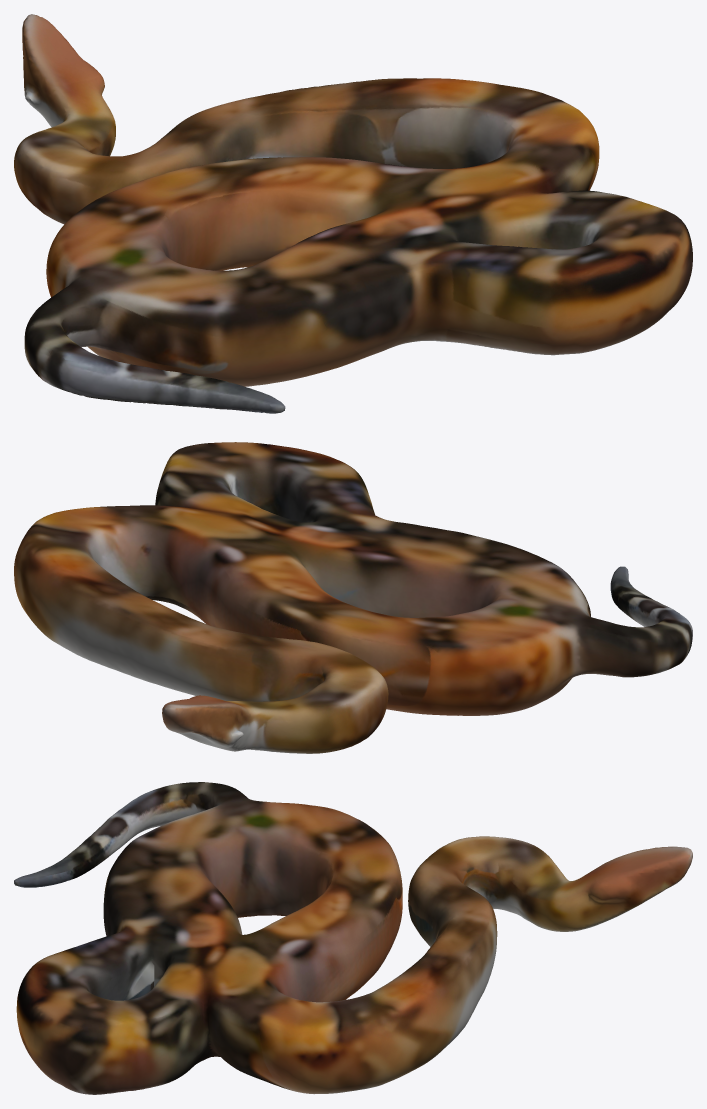
The picture shows the model from 3 angles, top to bottom: view 1: azimuth 30°, elevation 25°; view 2: azimuth 150°, elevation 25°; view 3: azimuth 270°, elevation 25°; orthographic projection. The views are drawn at different scales.
Visible parts, largest first — view 1: tripo_node_8c57b64e-65a4-4a29-85a1-a681f91f5ccb; view 2: tripo_node_8c57b64e-65a4-4a29-85a1-a681f91f5ccb; view 3: tripo_node_8c57b64e-65a4-4a29-85a1-a681f91f5ccb.
Part boxes in pixels (box(x1,y1,x2,y2)): tripo_node_8c57b64e-65a4-4a29-85a1-a681f91f5ccb: box(14, 14, 692, 413); tripo_node_8c57b64e-65a4-4a29-85a1-a681f91f5ccb: box(14, 442, 692, 753); tripo_node_8c57b64e-65a4-4a29-85a1-a681f91f5ccb: box(14, 782, 692, 1094).
Bounding box in the file's own units: 0.9748 × 0.1959 × 1.
1 material, 1 textured.
